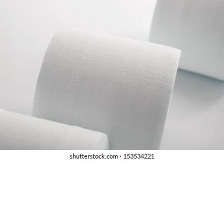tissue: (25, 16, 187, 149), (140, 0, 224, 85), (0, 100, 114, 150)
